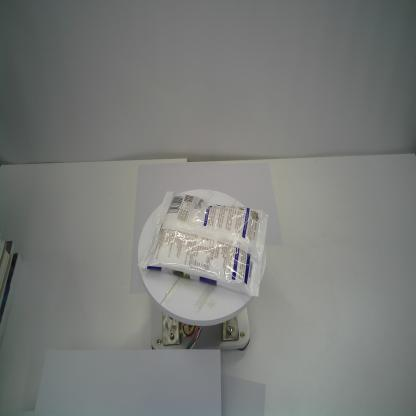Seasoner: (136, 190, 269, 298)
